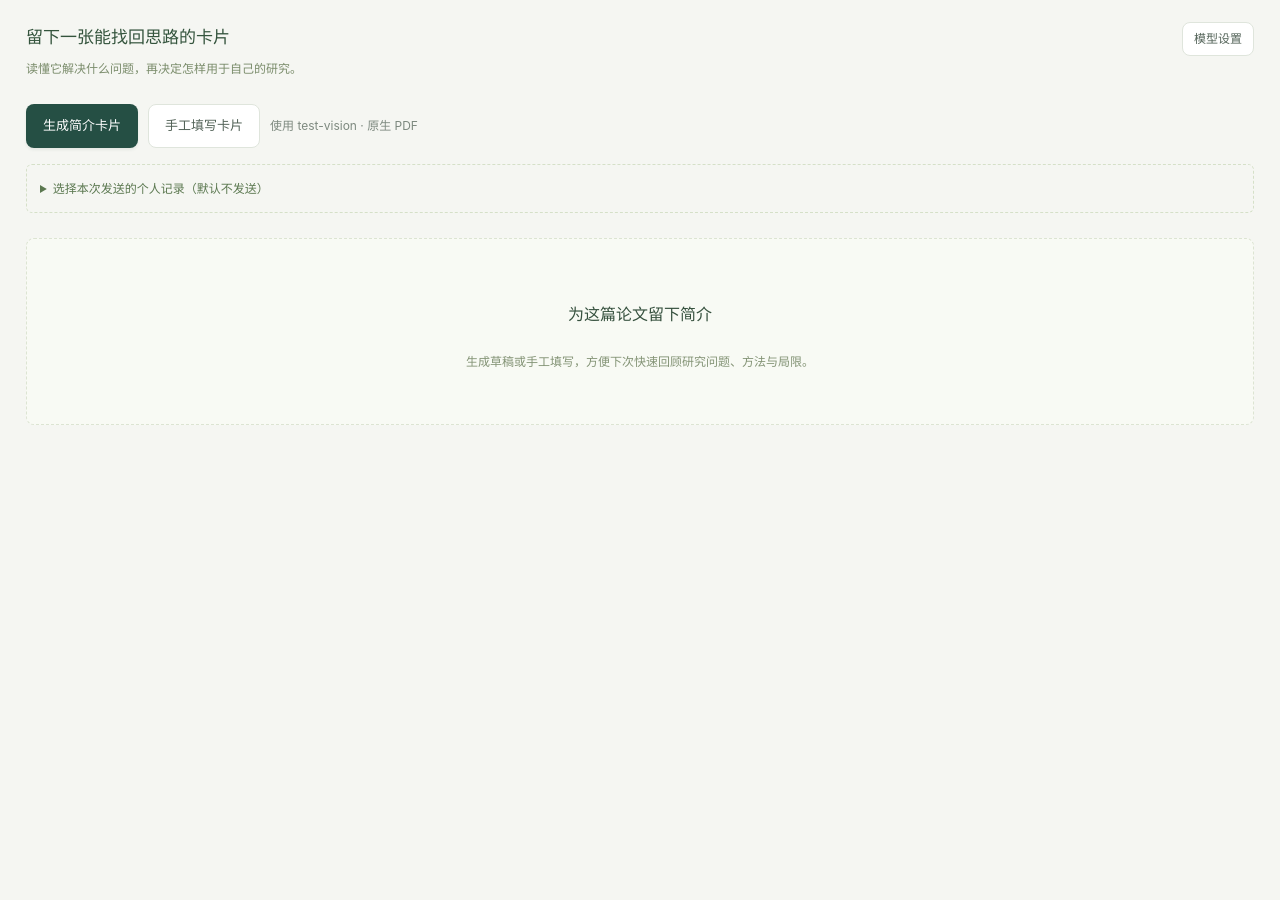
Test: 任务完成后先载入新草稿，再停止轮询，不中止结果请求
Click the button "生成简介卡片".
click(82, 126)  # box [26, 104, 138, 148]
Wait 2000 ms
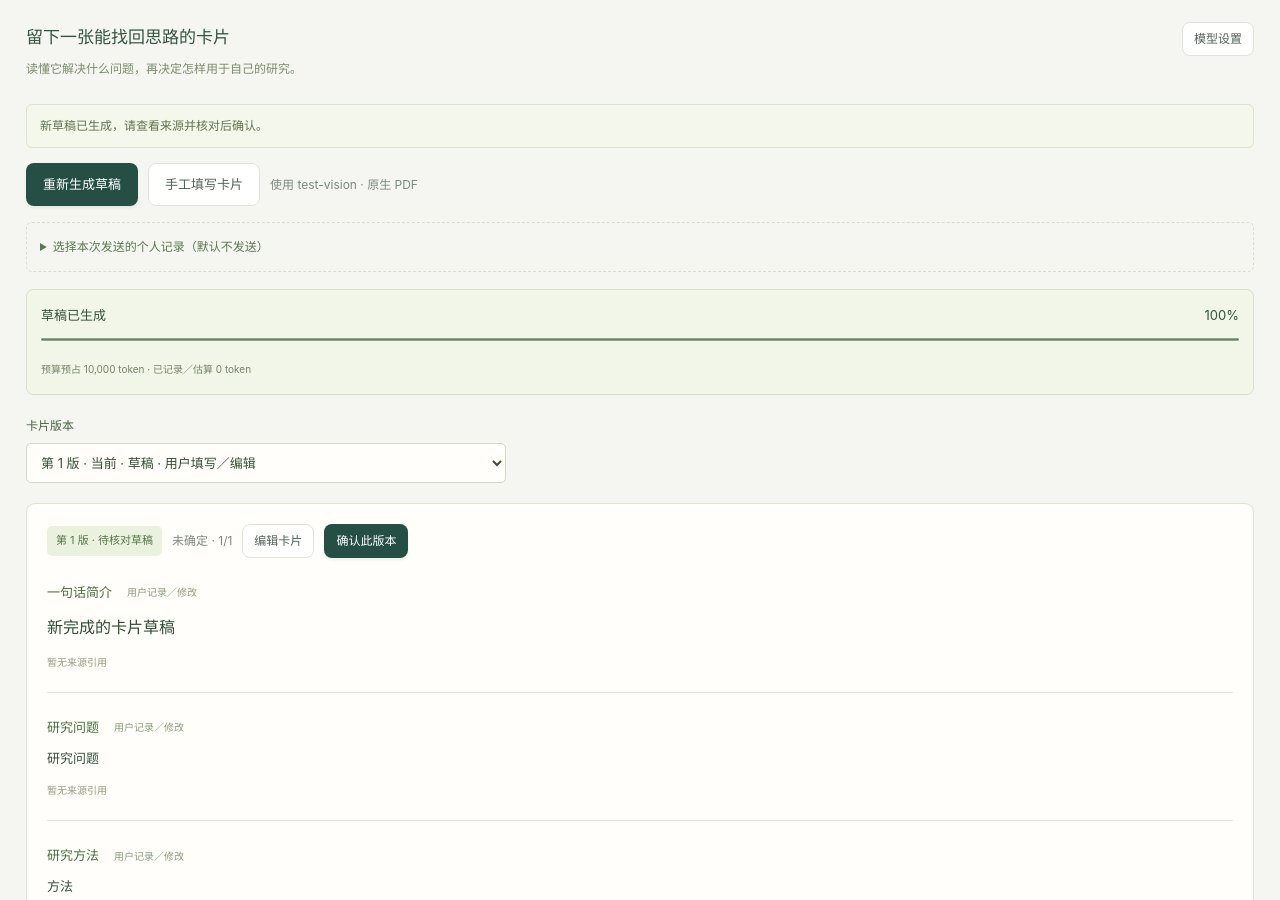
Result: the text "新完成的卡片草稿" is shown at [47, 617, 175, 637]
Result: the button "编辑卡片" is shown at [242, 524, 314, 558]
